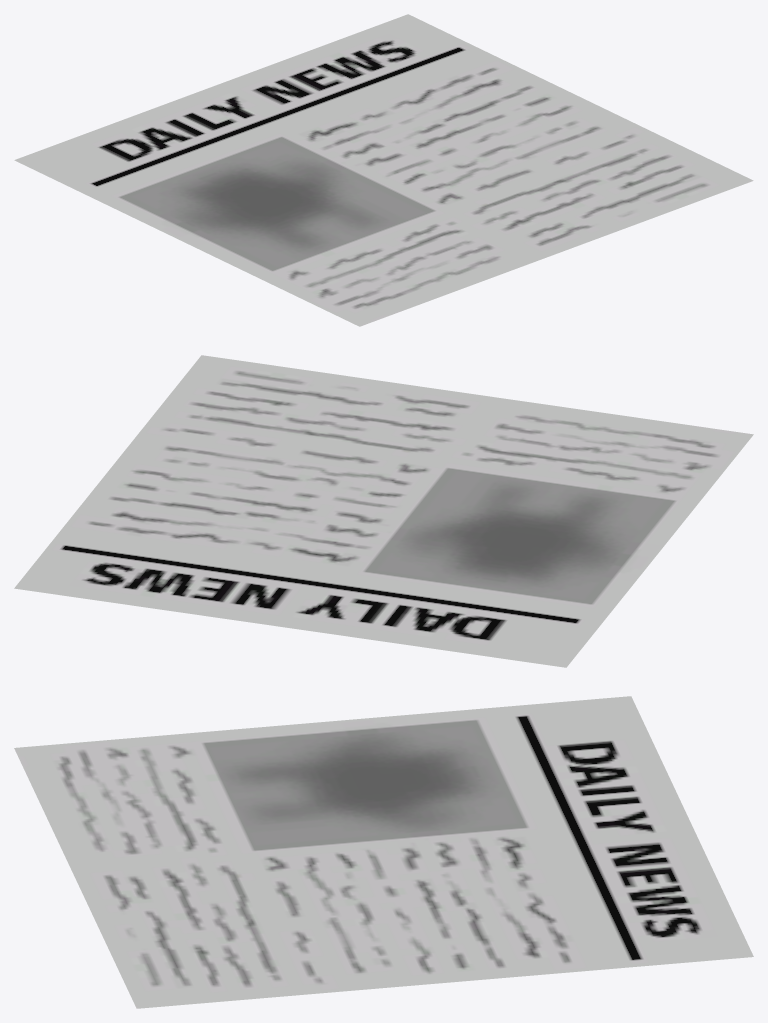
The model's file is Newspaper_Sheet.fbx.
The picture shows the model from 3 angles, top to bottom: view 1: azimuth 30°, elevation 25°; view 2: azimuth 150°, elevation 25°; view 3: azimuth 270°, elevation 25°; orthographic projection. The views are drawn at different scales.
Parts seen in each view (by area): view 1: Newspaper_Sheet; view 2: Newspaper_Sheet; view 3: Newspaper_Sheet.
Part boxes in pixels (left/top/right/bottom): Newspaper_Sheet: left=14, top=14, right=753, bottom=326; Newspaper_Sheet: left=14, top=355, right=753, bottom=667; Newspaper_Sheet: left=14, top=696, right=753, bottom=1008.
Bounding box in the file's own units: 2.43 × 0 × 2.43.
Materials: 1 (1 with a texture image).
